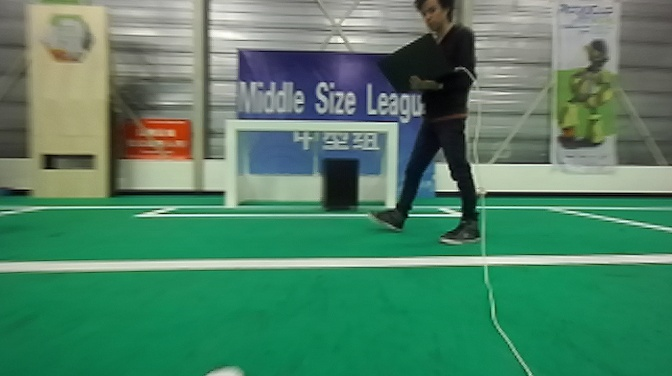goalpost: (223, 115, 255, 211), (382, 120, 399, 211)
human: (375, 1, 495, 251)
